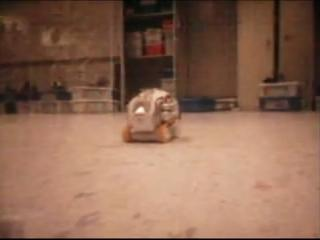cozmo: (121, 87, 181, 143)
